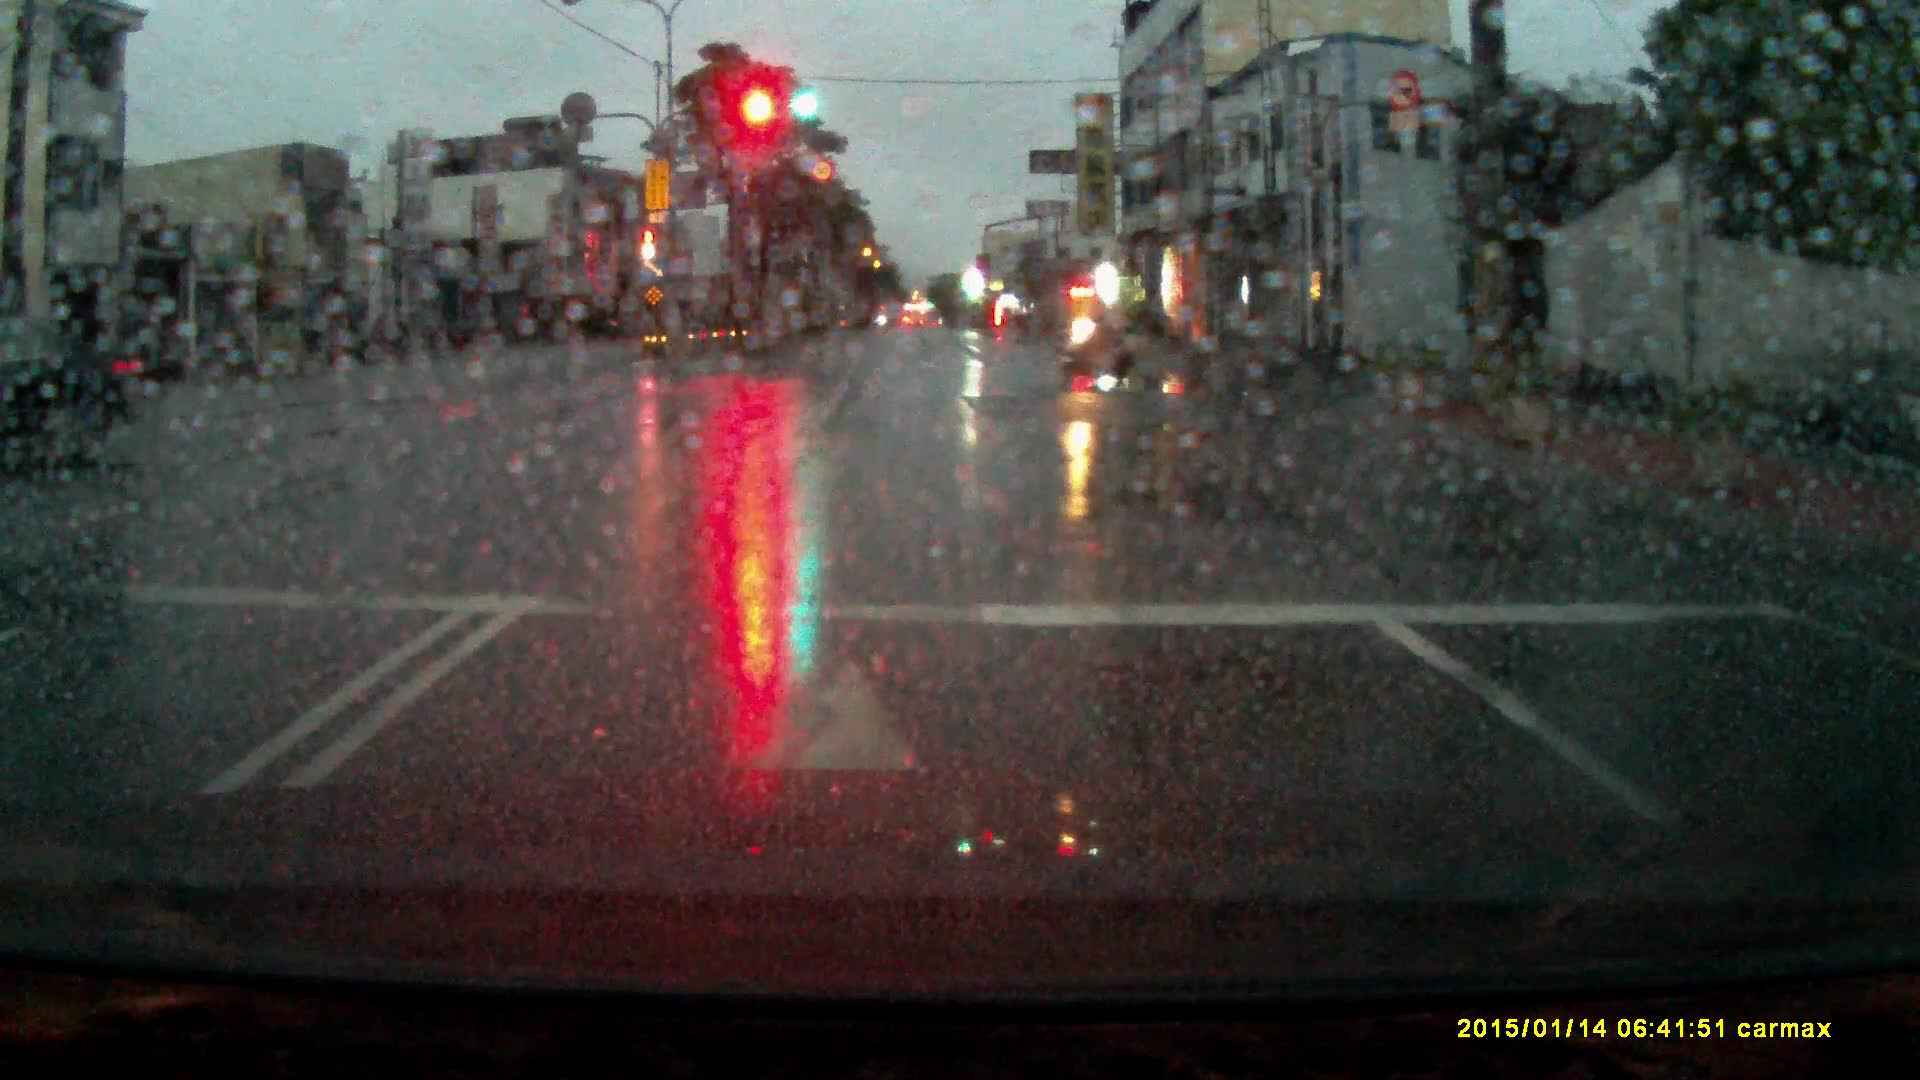rider: (1053, 284, 1135, 386)
vehicle: (1, 318, 155, 470)
